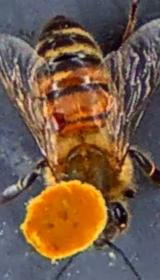varroa_mite: (42, 102, 72, 138)
